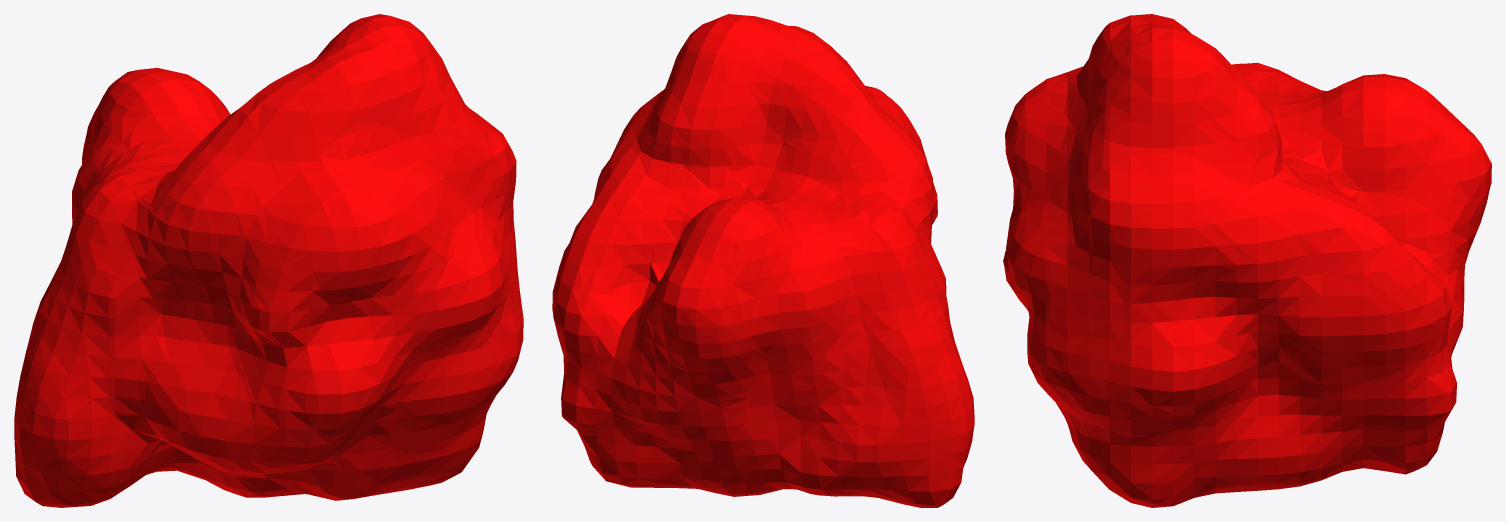
The model's file is folP_coarse.dae.
3 views of the same model, side by side, from view 1: azimuth 30°, elevation 25°; view 2: azimuth 150°, elevation 25°; view 3: azimuth 270°, elevation 25° (orthographic). The views are drawn at different scales.
Parts seen in each view (by area): view 1: folP; view 2: folP; view 3: folP.
Boxes of the visible parts, bbox=[...] form: folP: bbox=[14, 14, 523, 507]; folP: bbox=[552, 14, 974, 507]; folP: bbox=[1003, 14, 1491, 507].
Size of the model in its own units: 51.71 by 52.71 by 49.99.
